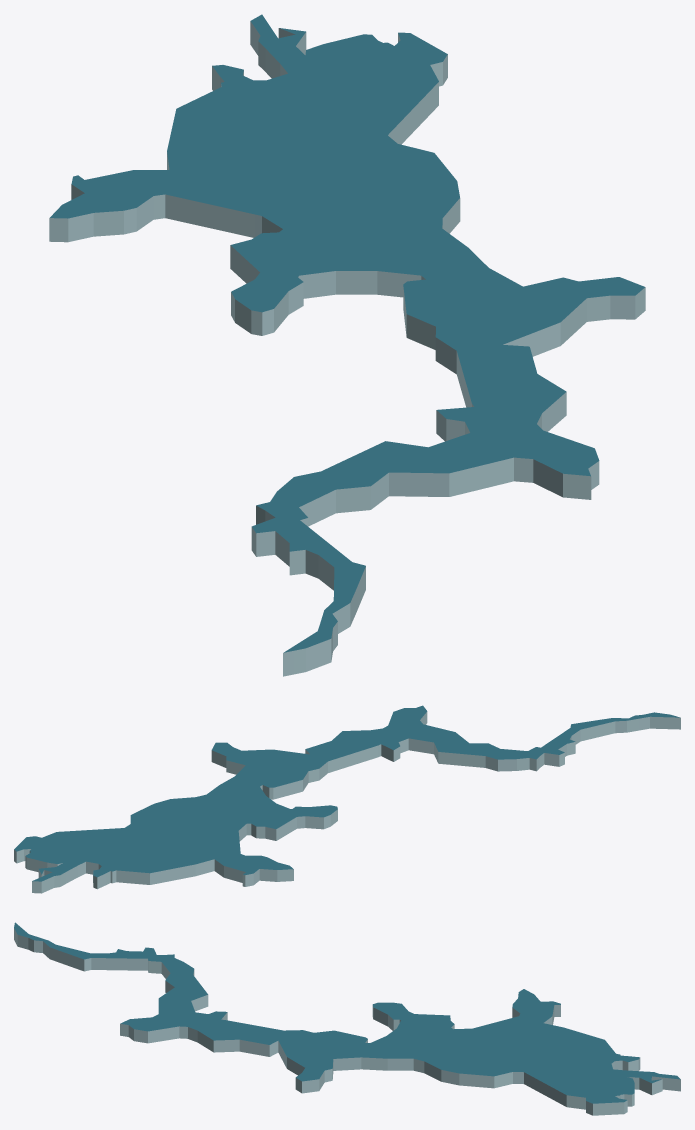
Rendered from ulittlemagothy.glb.
3 views of the same model, one above another, from view 1: azimuth 30°, elevation 25°; view 2: azimuth 150°, elevation 25°; view 3: azimuth 270°, elevation 25° (orthographic). The views are drawn at different scales.
Visible parts, largest first — view 1: littlemagothy; view 2: littlemagothy; view 3: littlemagothy.
Boxes of the visible parts, x1,y1,x2,y2 form: littlemagothy: (49,14,645,676); littlemagothy: (14,705,680,893); littlemagothy: (14,922,680,1115).
Bounding box in the file's own units: 1.6 × 0.0492 × 2.48.
